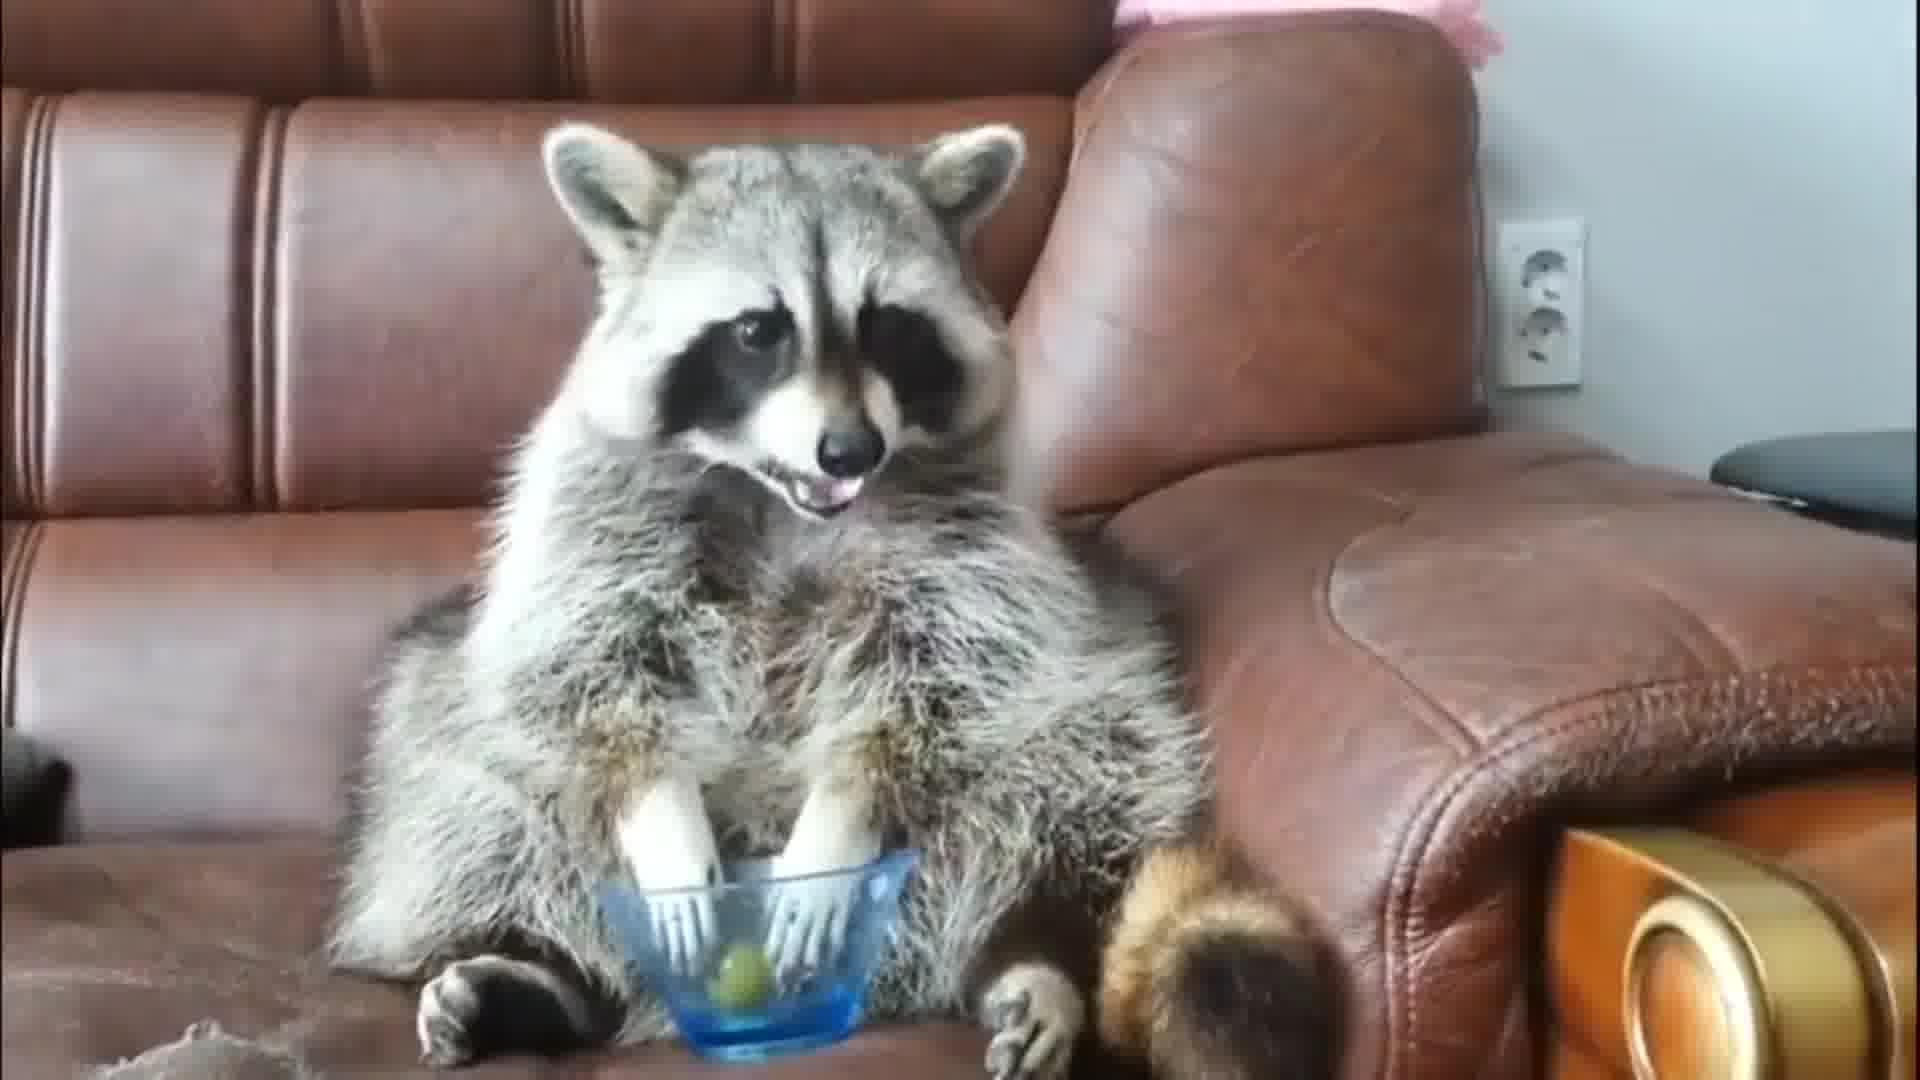raccoon: (326, 125, 1342, 1080)
